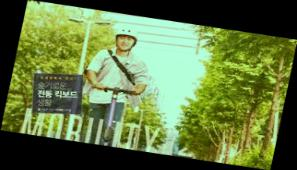helmet: (75, 23, 160, 150)
